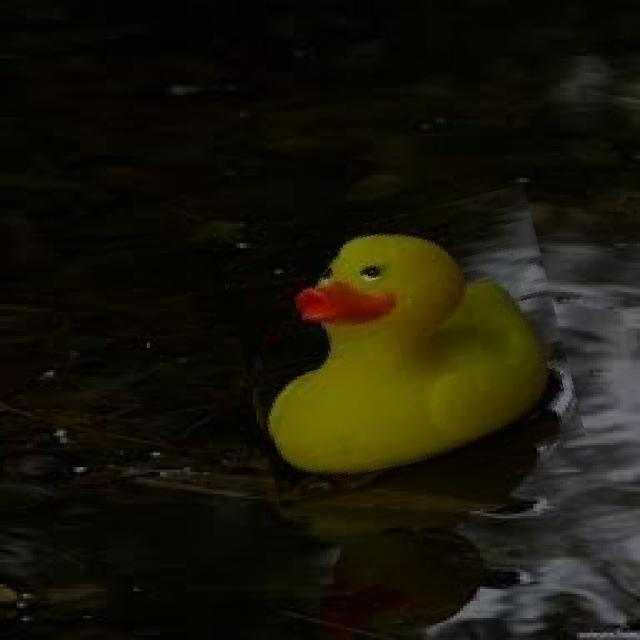rubber-duck: (267, 234, 544, 471)
